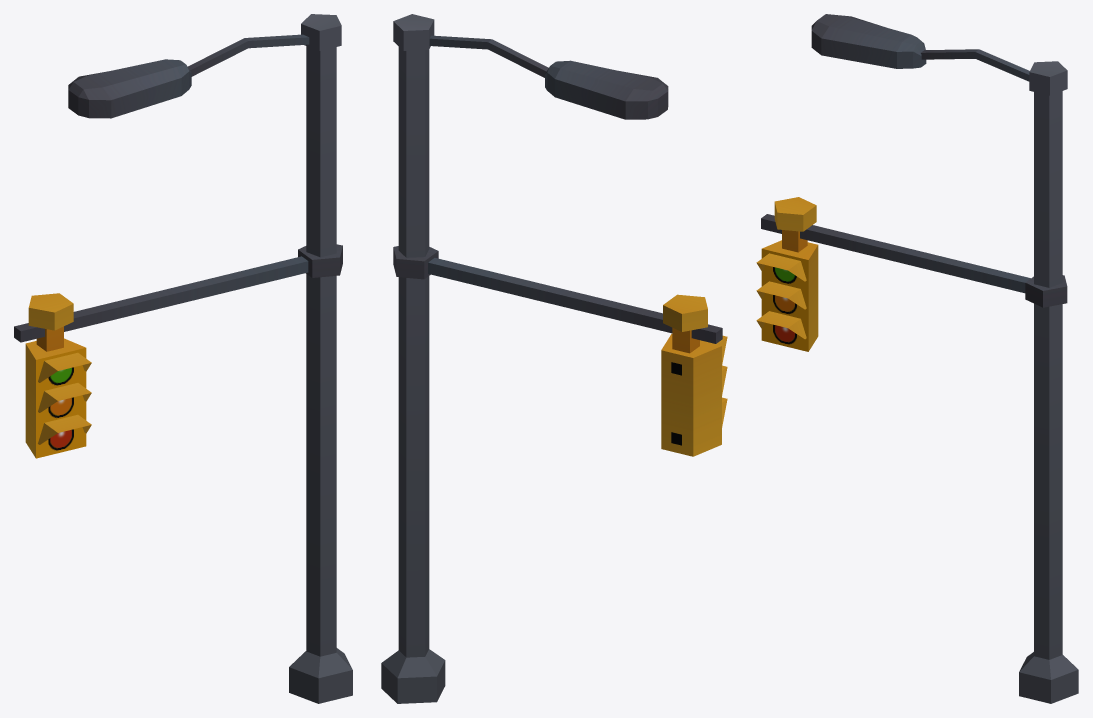
Rendered from SM_Traffic_Light_1.FBX.
The picture shows the model from 3 angles, left to right: view 1: azimuth 30°, elevation 25°; view 2: azimuth 150°, elevation 25°; view 3: azimuth 330°, elevation 25°; orthographic projection. The views are drawn at different scales.
Visible parts, largest first — view 1: SM_Traffic_Light_1; view 2: SM_Traffic_Light_1; view 3: SM_Traffic_Light_1.
Boxes of the visible parts, x1,y1,x2,y2 form: SM_Traffic_Light_1: [14, 14, 352, 703]; SM_Traffic_Light_1: [381, 14, 727, 703]; SM_Traffic_Light_1: [756, 14, 1078, 703].
Size of what is drawn, in the model's own units: 476 by 102 by 915.
